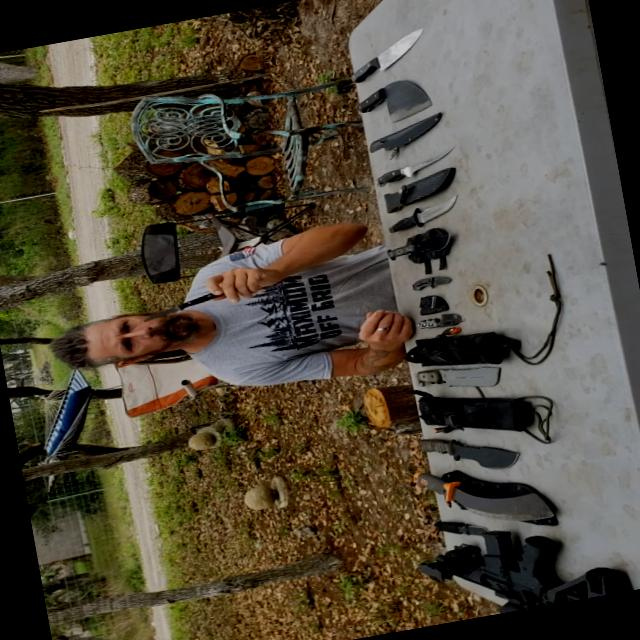knife: (400, 440, 578, 550), (412, 414, 527, 480), (356, 136, 466, 195), (394, 344, 504, 401), (348, 70, 440, 134), (338, 18, 428, 83), (394, 254, 489, 312), (366, 185, 457, 239), (437, 500, 513, 550), (392, 302, 473, 338)
long weapon: (402, 501, 612, 626)
